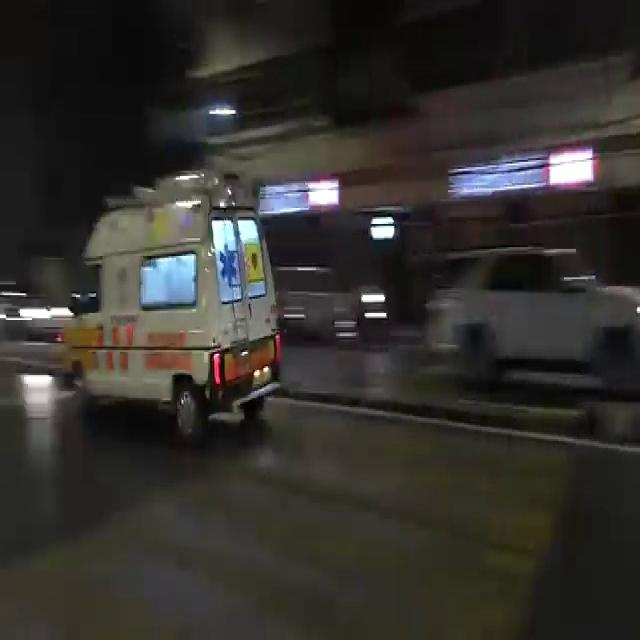ambulance: (57, 157, 288, 424)
